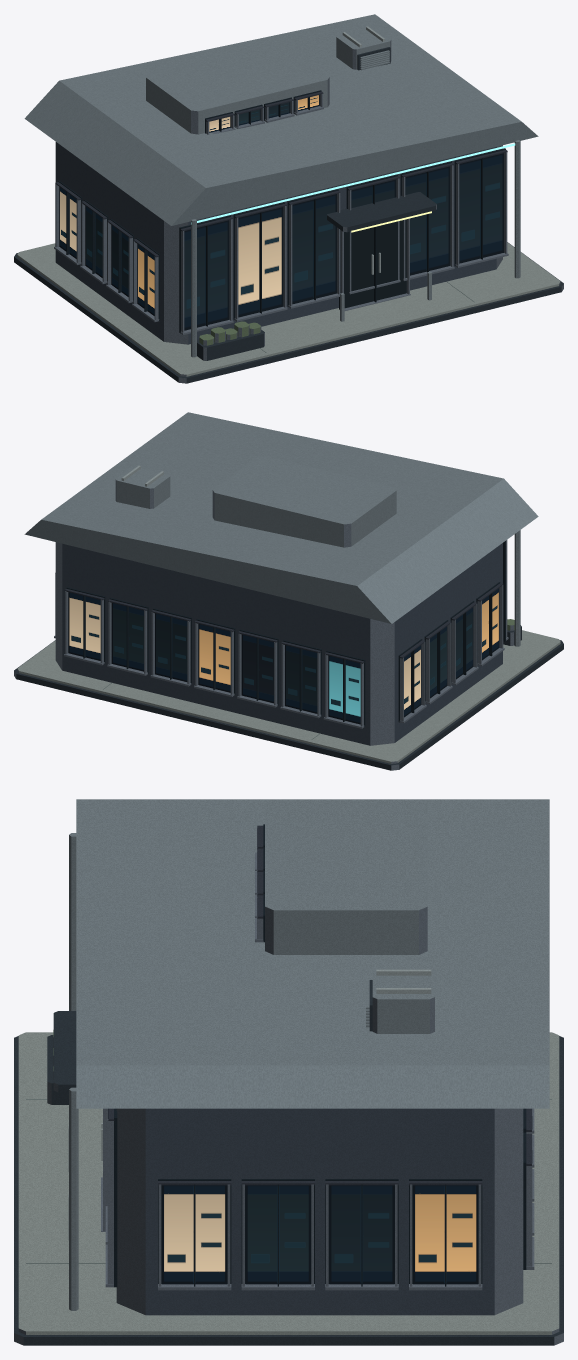
The model's file is 02-work-annex-02.glb.
3 renders of one model, top to bottom at view 1: azimuth 30°, elevation 25°; view 2: azimuth 150°, elevation 25°; view 3: azimuth 270°, elevation 25°, orthographic. The views are drawn at different scales.
Parts seen in each view (by area): view 1: work_architecture; view 2: work_architecture; view 3: work_architecture.
Boxes of the visible parts, x1=… form: work_architecture: x1=14, y1=14, x2=563, y2=383; work_architecture: x1=14, y1=412, x2=563, y2=770; work_architecture: x1=14, y1=799, x2=563, y2=1345.
Bounding box in the file's own units: 15 × 7.2 × 11.5.
2 materials, 2 textured.
